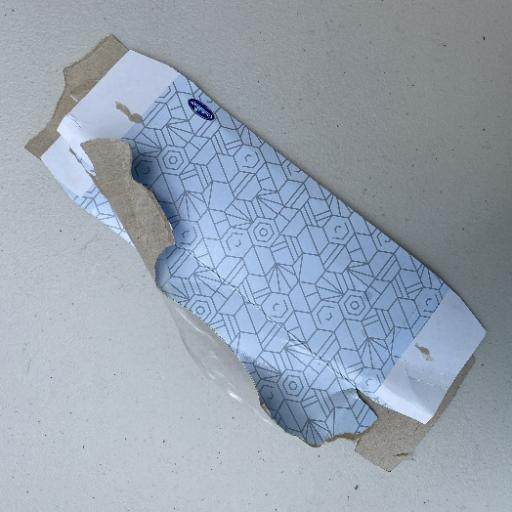Cardboard: (26, 37, 486, 452)
